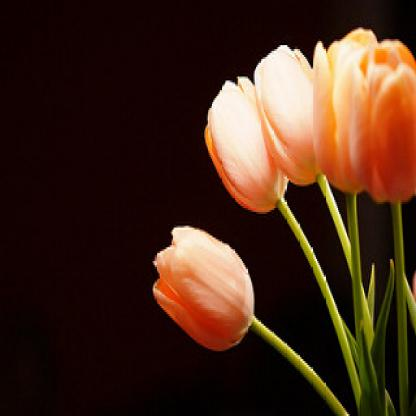TULIP: (158, 11, 408, 399)
